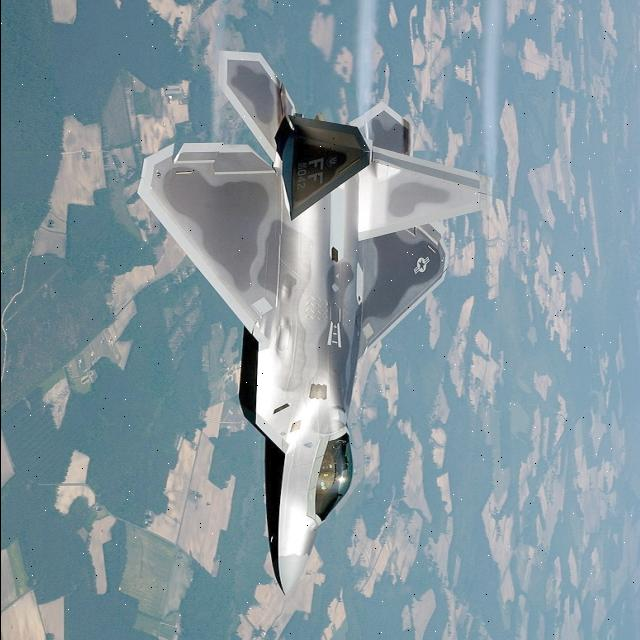F22: (120, 31, 524, 614)
